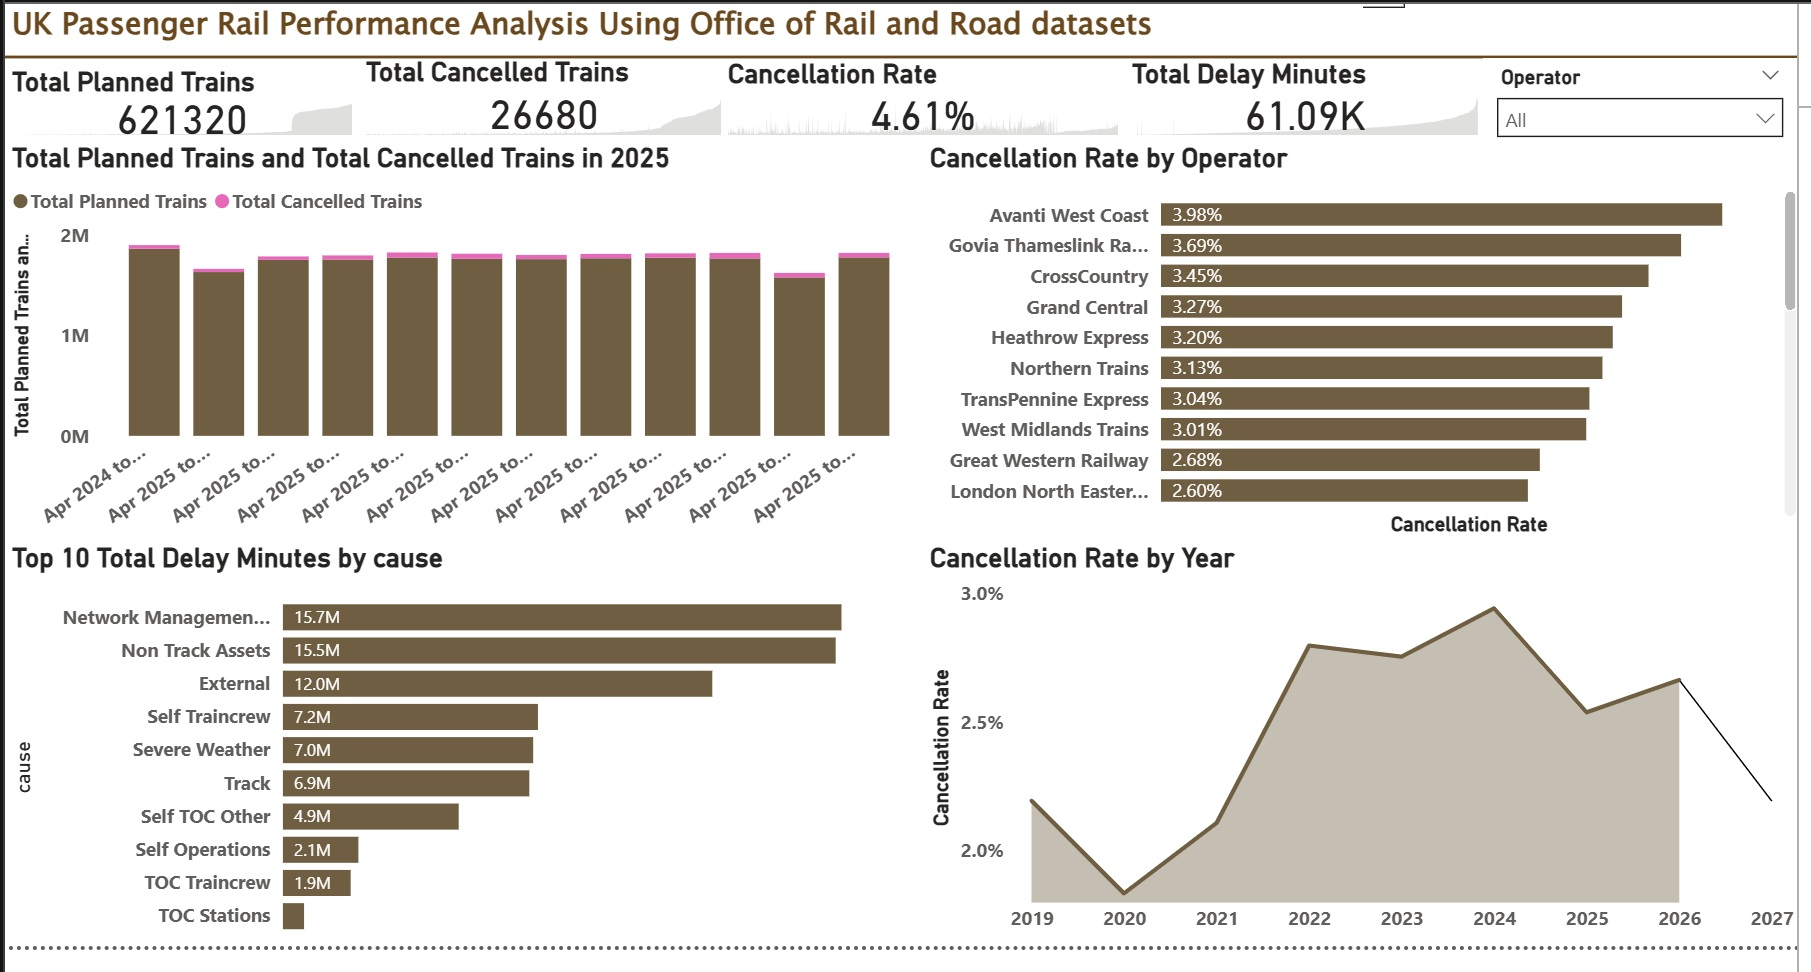

The dashboard page shown, as its layout file describes it:
{"tool":"powerbi","page":{"name":"Rail Performance Dashboard","canvas":[1280,720],"ordinal":0},"visuals":[{"type":"textbox","box":[0,35.5,970.3,68.8],"z":1000},{"type":"kpi","title":"Total Planned Trains","fields":{"Indicator":["train_planned_cancelled.Total Planned Trains"],"TrendLine":["train_planned_cancelled.planned_trains"]},"box":[0,81.8,205.2,63.9],"z":2000},{"type":"kpi","title":"Total Cancelled Trains","fields":{"Indicator":["train_planned_cancelled.Total Cancelled Trains"],"TrendLine":["train_planned_cancelled.cancelled_trains"]},"box":[205.2,83.3,208.1,63.9],"z":3000},{"type":"kpi","title":"Cancellation Rate","fields":{"Indicator":["train_planned_cancelled.Cancellation Rate"],"TrendLine":["train_planned_cancelled.cancelled_trains"]},"box":[413.3,84.7,203.7,61],"z":4000},{"type":"kpi","title":"Total Delay Minutes","fields":{"Indicator":["delay_minutes.Total Delay Minutes"],"TrendLine":["delay_minutes.delay_minutes"]},"box":[617,86.2,197.7,59.5],"z":5000},{"type":"columnChart","title":"Total Planned Trains and Total Cancelled Trains in 2025","fields":{"Category":["dim_period.Period"],"Y":["train_planned_cancelled.Total Planned Trains","train_planned_cancelled.Total Cancelled Trains"]},"box":[0,145.7,655.7,285.7],"z":6000},{"type":"barChart","title":"Top Delay Causes by Total Delay Minutes","fields":{"Category":["delay_minutes.cause"],"Y":["delay_minutes.Total Delay Minutes"]},"box":[0,431.4,655.7,291.4],"z":7000},{"type":"clusteredBarChart","fields":{"Category":["dim_operator.Operator"],"Y":["train_planned_cancelled.Cancellation Rate"]},"box":[634.8,173.9,628.9,285.4],"z":8000},{"type":"lineChart","fields":{"Category":["dim_period.Period Date.Variation.Date Hierarchy.Year","dim_period.Period Date.Variation.Date Hierarchy.Quarter","dim_period.Period Date.Variation.Date Hierarchy.Month","dim_period.Period Date.Variation.Date Hierarchy.Day"],"Y":["train_planned_cancelled.Cancellation Rate"]},"box":[655.7,431.4,627.1,288.6],"z":9000},{"type":"shape","box":[0,69.9,1280,11.9],"z":10000},{"type":"slicer","fields":{"Values":["dim_operator.Operator"]},"box":[1085.2,50.5,194.8,86.2],"z":11000},{"type":"cardVisual","title":"Average Delay Minutes per Train","fields":{"Data":["delay_minutes.Average Delay Minutes per Train"]},"box":[814.7,75.8,270.6,69.9],"z":12000},{"type":"textbox","box":[394,562,261.6,157.6],"z":13000}]}

Visuals, with their boxes on the page's 1280x720 design canvas (x1, y1, x2, y2). These are canvas units, not pixel positions in the 1811x972 screenshot, which may show the page scaled, cropped or inside an application window:
textbox: x1=0, y1=36, x2=970, y2=104
"Total Planned Trains" kpi: x1=0, y1=82, x2=205, y2=146
"Total Cancelled Trains" kpi: x1=205, y1=83, x2=413, y2=147
"Cancellation Rate" kpi: x1=413, y1=85, x2=617, y2=146
"Total Delay Minutes" kpi: x1=617, y1=86, x2=815, y2=146
"Total Planned Trains and Total Cancelled Trains in 2025" columnChart: x1=0, y1=146, x2=656, y2=431
"Top Delay Causes by Total Delay Minutes" barChart: x1=0, y1=431, x2=656, y2=723
clusteredBarChart - dim_operator.Operator x train_planned_cancelled.Cancellation Rate: x1=635, y1=174, x2=1264, y2=459
lineChart - dim_period.Period Date.Variation.Date Hierarchy.Year x dim_period.Period Date.Variation.Date Hierarchy.Quarter: x1=656, y1=431, x2=1283, y2=720
shape: x1=0, y1=70, x2=1280, y2=82
slicer - dim_operator.Operator: x1=1085, y1=50, x2=1280, y2=137
"Average Delay Minutes per Train" cardVisual: x1=815, y1=76, x2=1085, y2=146
textbox: x1=394, y1=562, x2=656, y2=720
